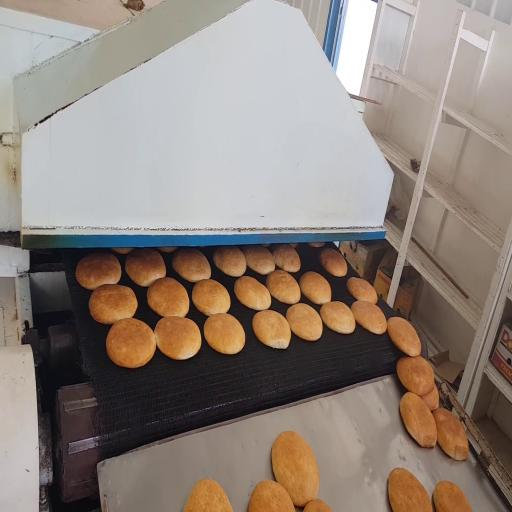bread: (272, 431, 319, 506), (106, 319, 156, 368), (400, 393, 437, 447), (155, 317, 201, 360), (89, 284, 137, 324), (388, 468, 432, 511), (432, 408, 468, 460), (204, 313, 245, 354), (76, 253, 121, 290), (147, 277, 189, 316), (184, 480, 233, 511), (125, 249, 166, 286), (248, 480, 295, 511), (252, 310, 290, 348), (397, 357, 434, 396), (192, 279, 230, 315), (286, 303, 322, 341), (172, 248, 210, 282), (388, 317, 421, 356), (234, 276, 271, 310), (266, 270, 300, 304), (351, 301, 386, 334), (434, 481, 472, 511), (320, 302, 355, 334), (212, 246, 246, 277), (299, 272, 331, 304), (242, 246, 275, 274), (319, 247, 347, 277), (347, 277, 377, 304), (272, 245, 300, 272), (422, 385, 440, 411), (304, 499, 332, 511), (112, 248, 133, 254), (159, 247, 177, 253), (308, 242, 325, 247), (290, 243, 298, 248)
